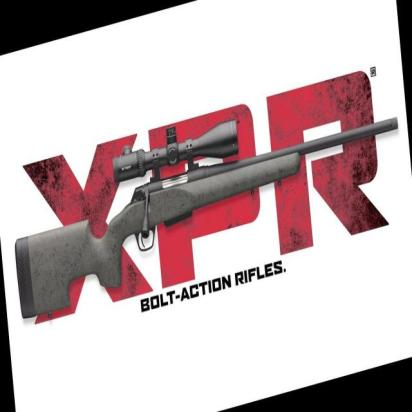Gun: (5, 72, 407, 319)
